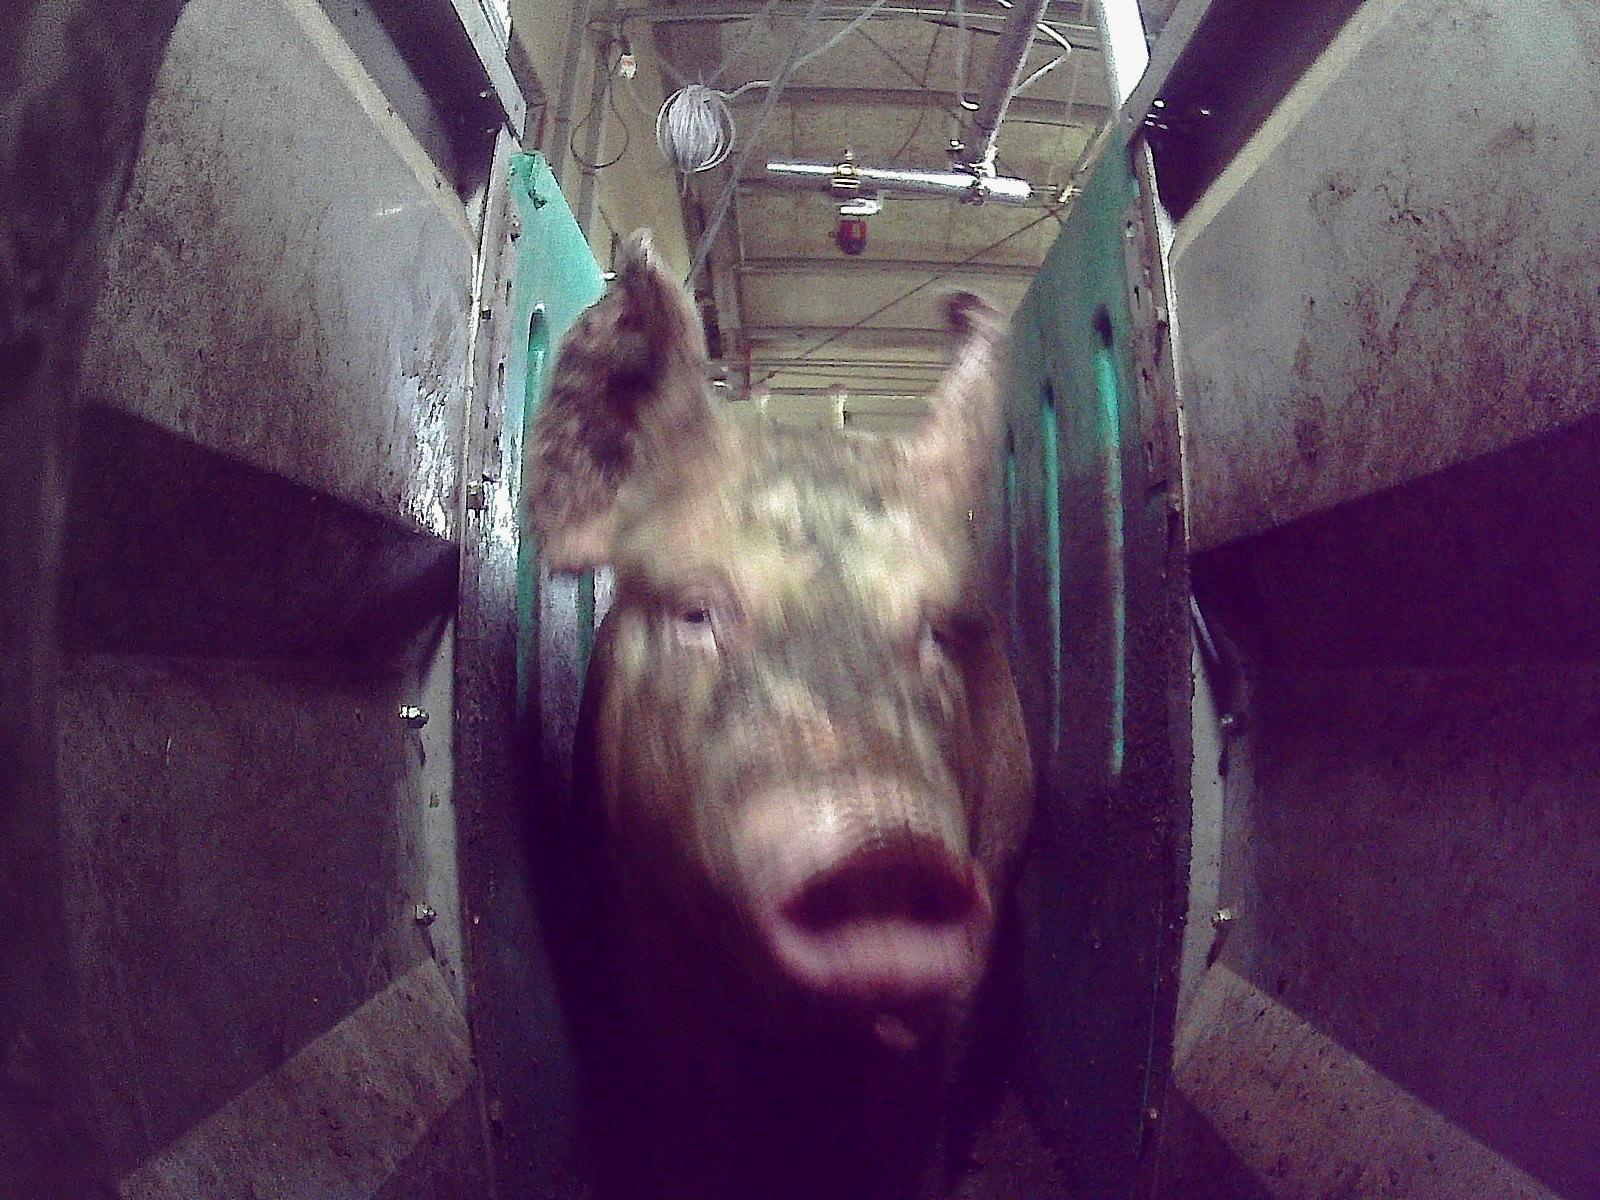Face: (578, 417, 999, 1050)
